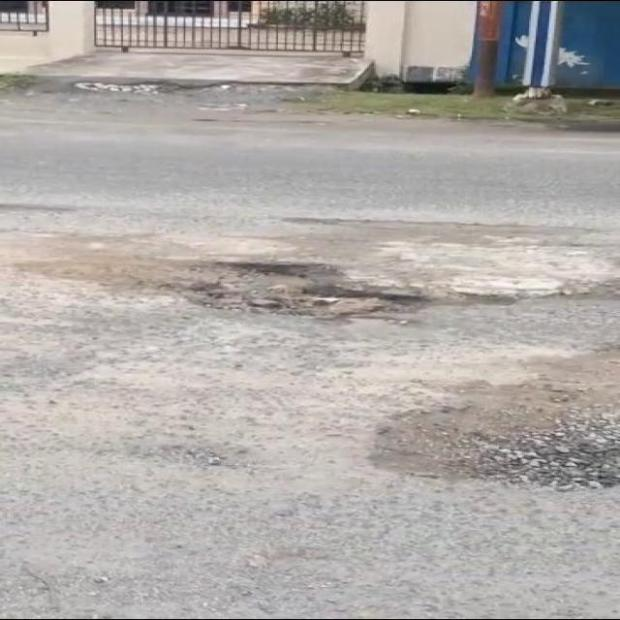lubang: (370, 352, 619, 494), (106, 240, 424, 321)
